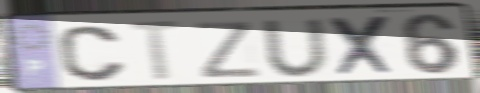6: (399, 11, 463, 77)
C: (55, 23, 129, 83)
T: (126, 18, 188, 85)
U: (259, 16, 333, 79)
X: (327, 13, 399, 79)
Z: (192, 20, 265, 81)
